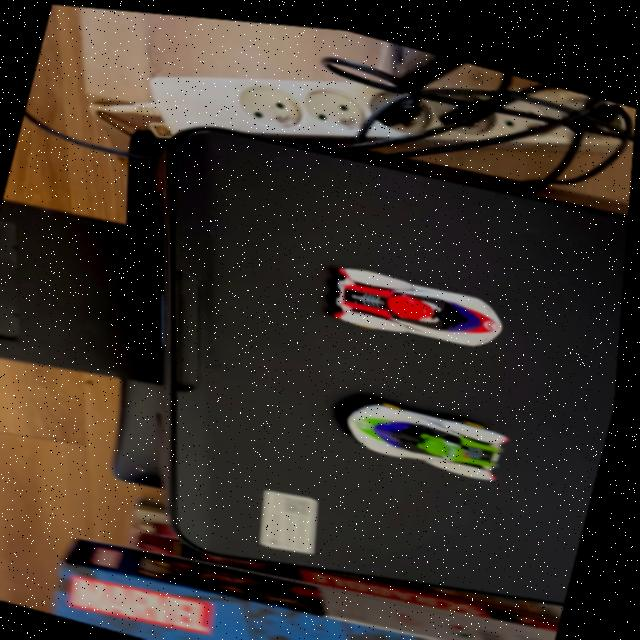mario: (314, 248, 526, 364)
yoshi: (333, 374, 534, 487)
